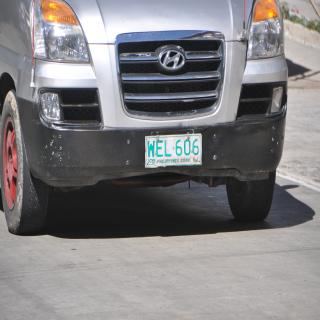license: (146, 135, 203, 169)
